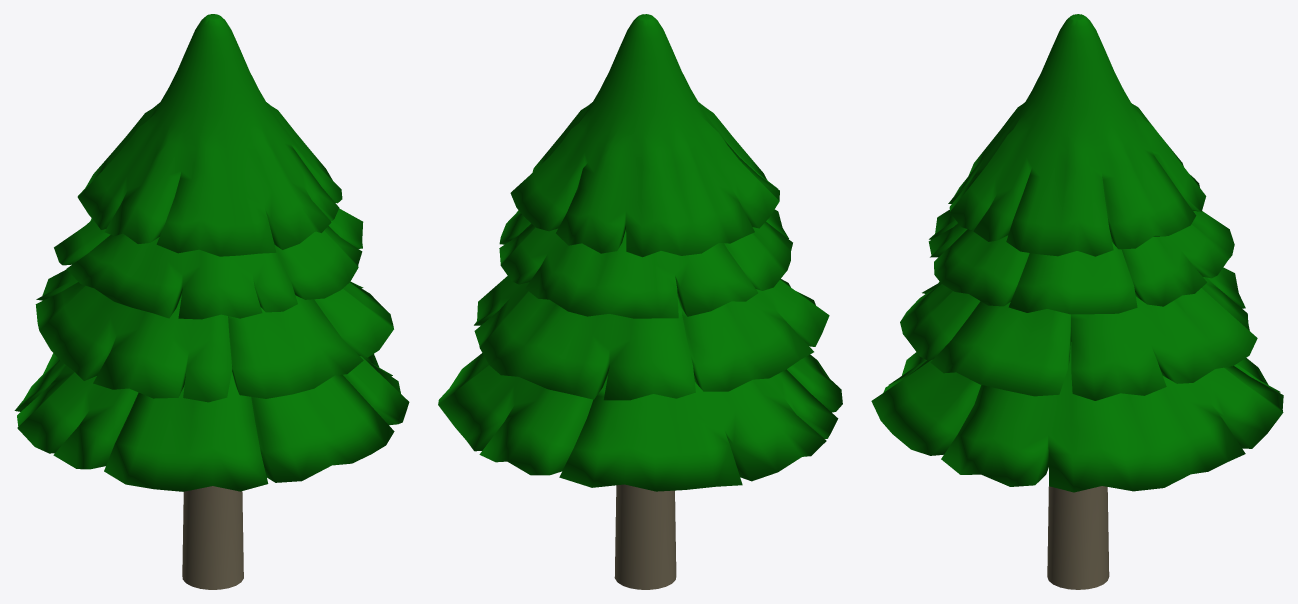
The model's file is tree.fbx.
3 renders of one model, left to right at view 1: azimuth 30°, elevation 25°; view 2: azimuth 150°, elevation 25°; view 3: azimuth 270°, elevation 25°, orthographic.
Parts seen in each view (by area): view 1: yezi, GG; view 2: yezi, GG; view 3: yezi, GG.
Boxes of the visible parts, x1=… form: yezi: x1=14, y1=14, x2=409, y2=491; GG: x1=182, y1=486, x2=243, y2=589; yezi: x1=438, y1=14, x2=842, y2=491; GG: x1=614, y1=484, x2=676, y2=589; yezi: x1=871, y1=14, x2=1283, y2=492; GG: x1=1047, y1=486, x2=1109, y2=589.
Bounding box in the file's own units: 7.73 × 11.89 × 7.94.
